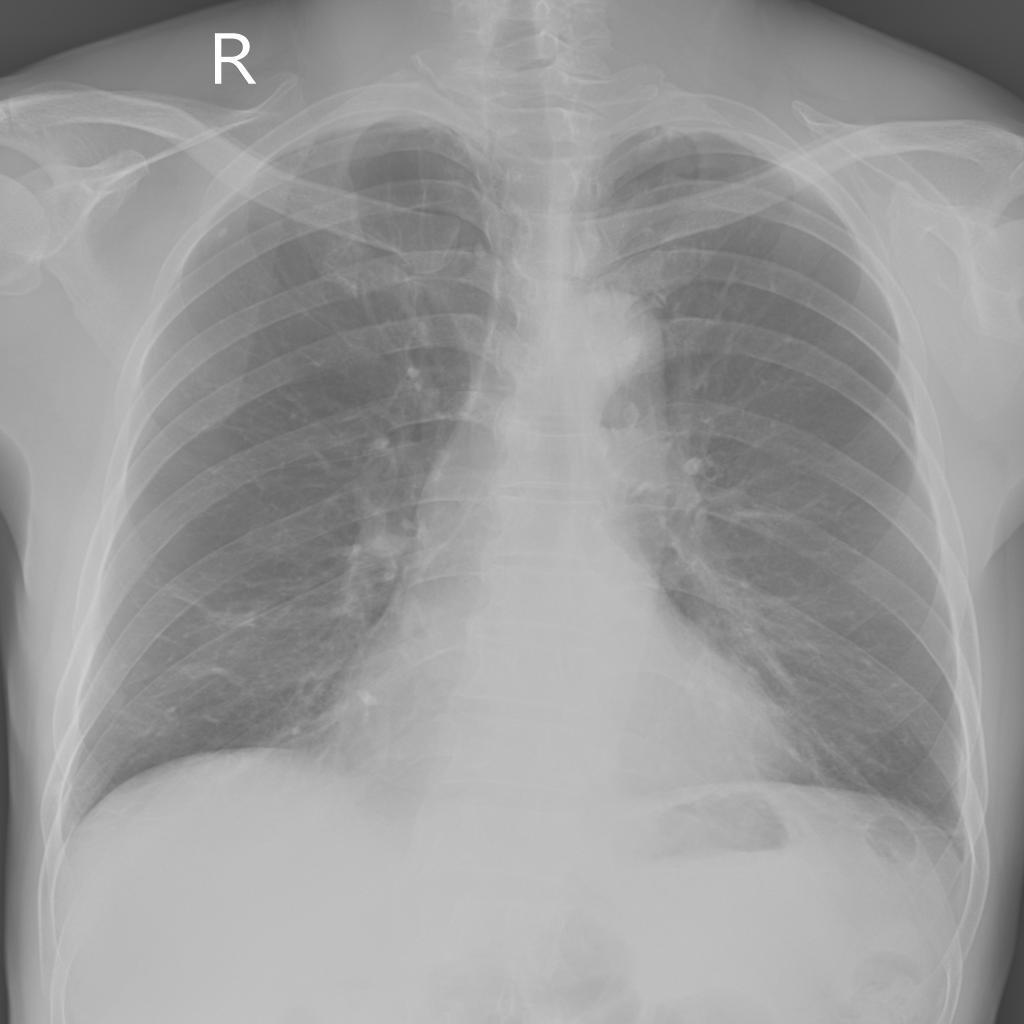Nodule: (217, 226, 230, 242)
